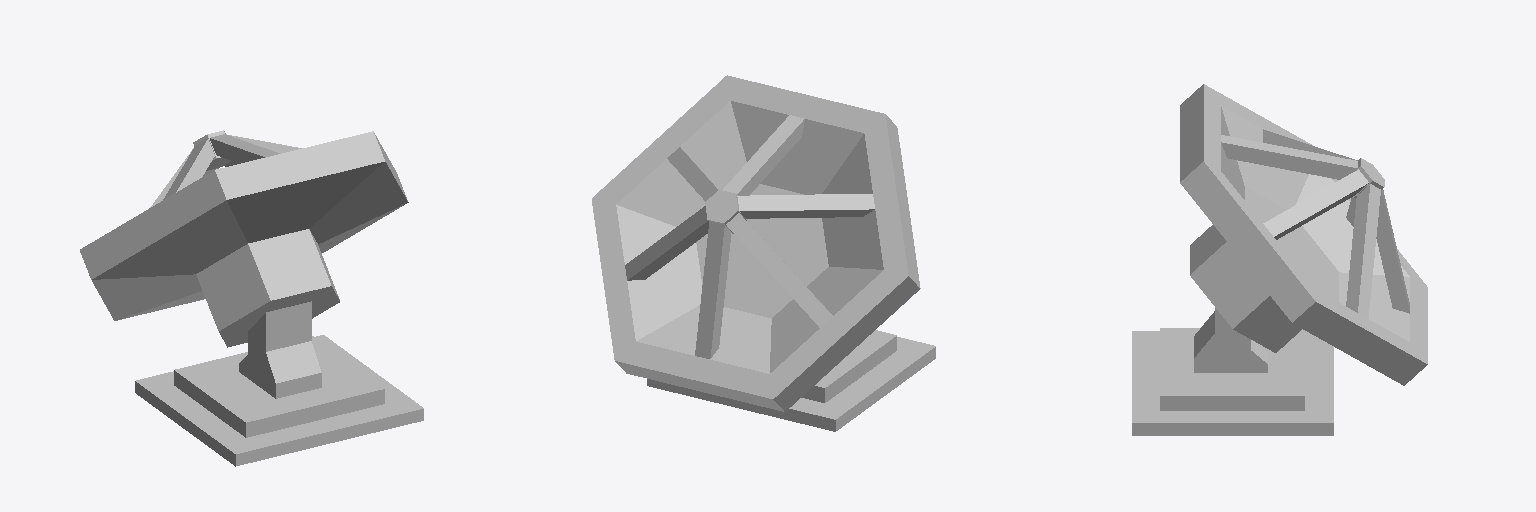
File: satelliteDishLarge.obj
The picture shows the model from 3 angles: view 1: azimuth 30°, elevation 25°; view 2: azimuth 150°, elevation 25°; view 3: azimuth 270°, elevation 25°; orthographic projection.
Parts seen in each view (by area): view 1: satelliteDishLarge; view 2: satelliteDishLarge; view 3: satelliteDishLarge.
Part boxes in pixels (left/top/right/bottom): satelliteDishLarge: left=80, top=130, right=423, bottom=466; satelliteDishLarge: left=592, top=75, right=935, bottom=431; satelliteDishLarge: left=1132, top=84, right=1427, bottom=435.
Bounding box in the file's own units: 10.92 × 8.78 × 8.82.